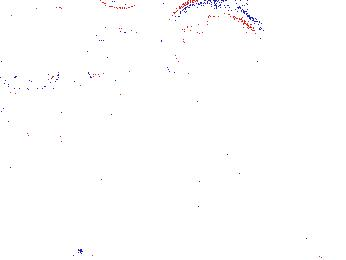moon jellyfish: (162, 1, 260, 86), (13, 8, 122, 78), (84, 28, 157, 77)
